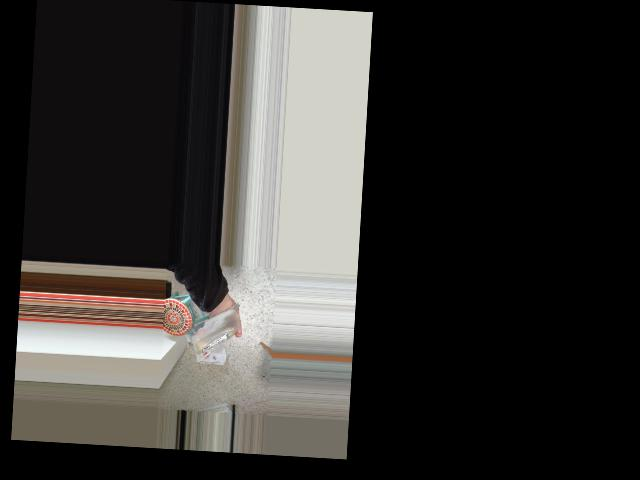cheese: (167, 295, 247, 372)
